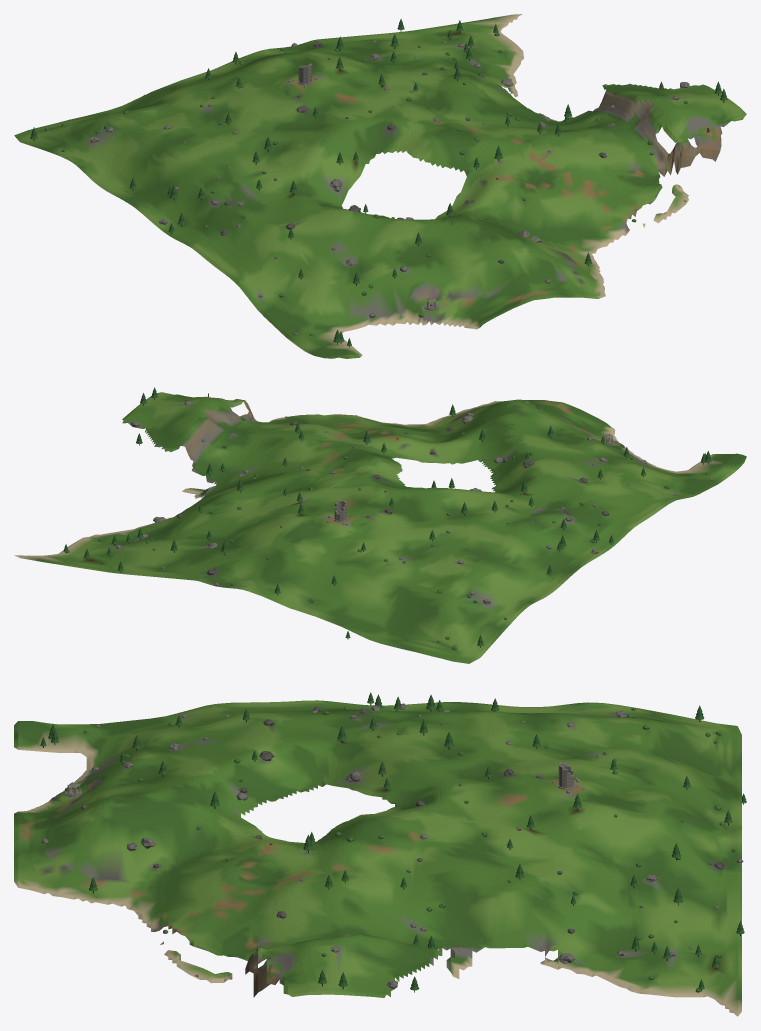
The model's file is arch_isl_gullhaven_lod1.glb.
3 renders of one model, top to bottom at view 1: azimuth 30°, elevation 25°; view 2: azimuth 150°, elevation 25°; view 3: azimuth 270°, elevation 25°, orthographic. The views are drawn at different scales.
Parts seen in each view (by area): view 1: geometry_0; view 2: geometry_0; view 3: geometry_0.
Part boxes in pixels (x1=…): geometry_0: x1=14, y1=14, x2=746, y2=358; geometry_0: x1=14, y1=387, x2=746, y2=663; geometry_0: x1=14, y1=692, x2=746, y2=1016.
Size of the model in its own units: 340 by 45.63 by 342.
